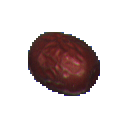gd: (21, 18, 115, 107)
